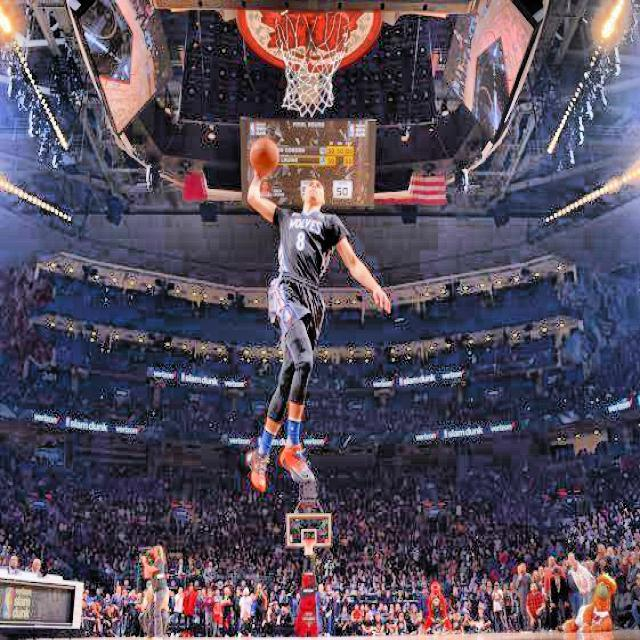board: (248, 138, 280, 178)
